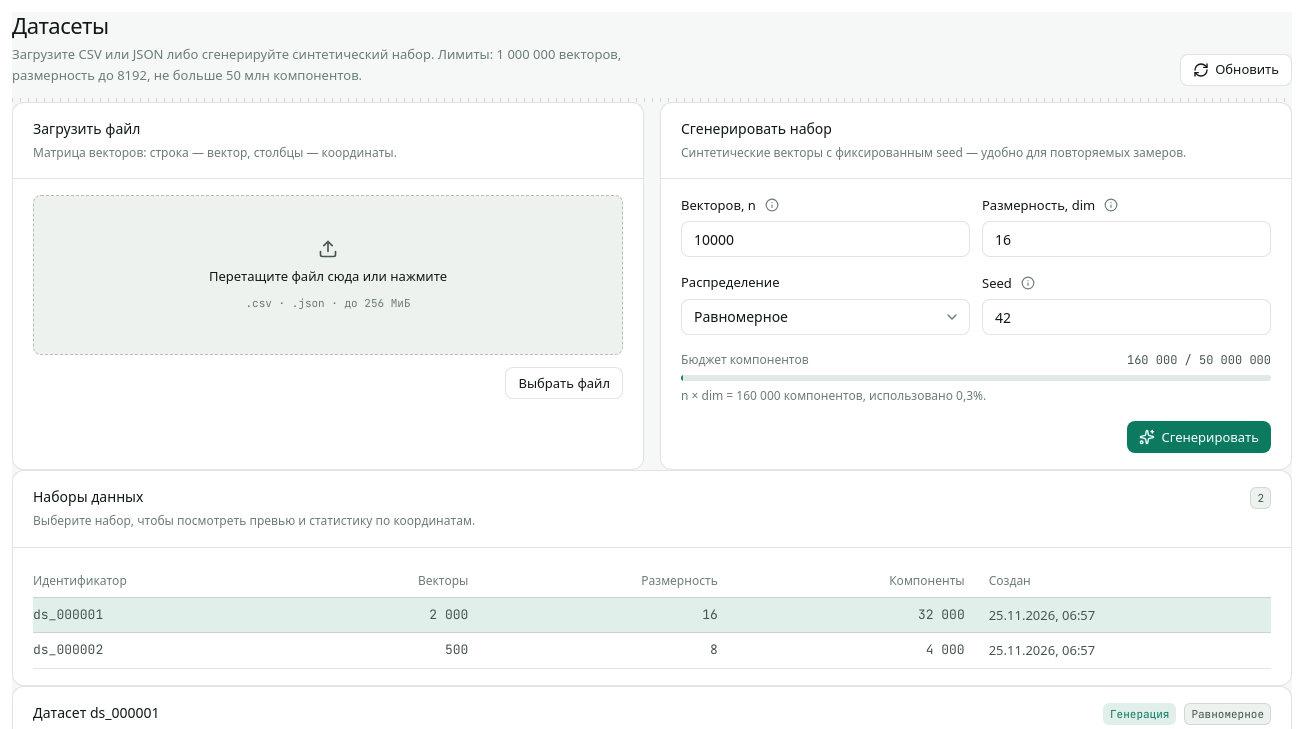
DatasetPage › generates a dataset and selects it
This screenshot has width=1304, height=729.
Expected: the text "ds_000001" is shown, [33,597,296,633]
Replace the text in the number field labelled "Векторов, n" with "120" at {"x": 826, "y": 239}, box [681,221,970,257]
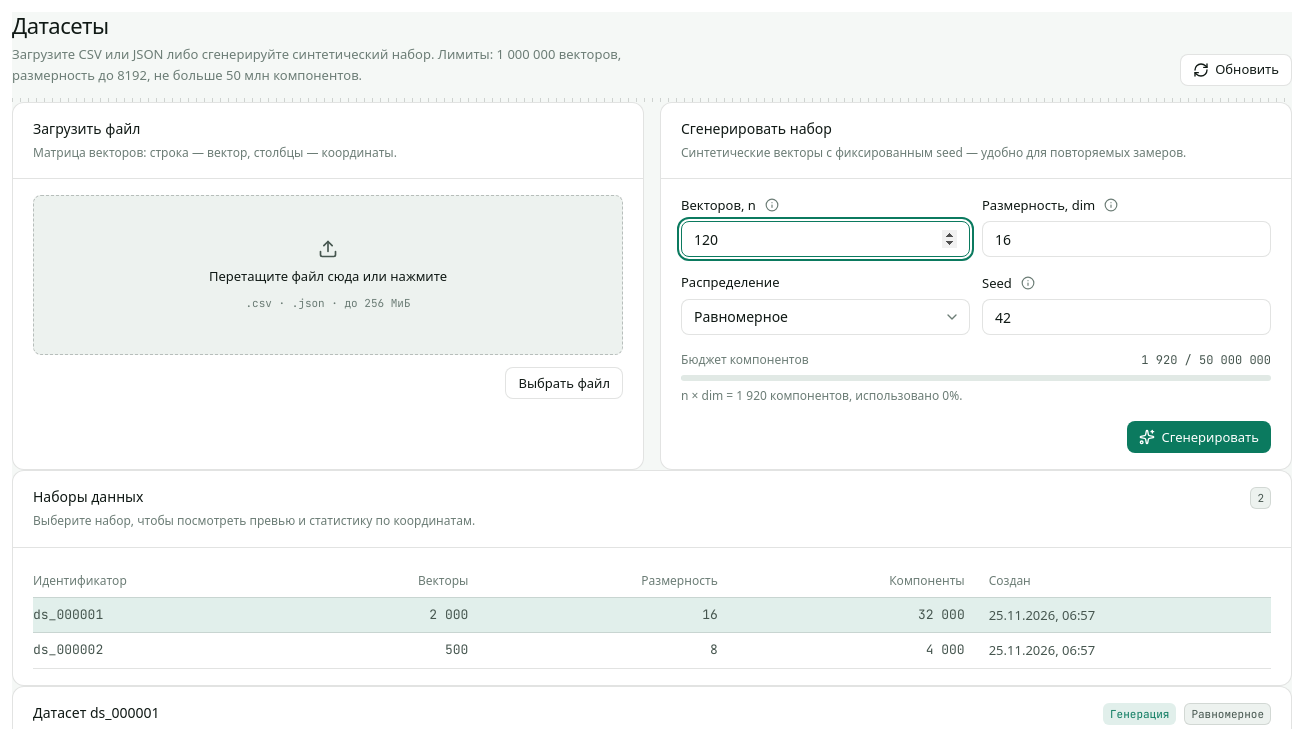
Replace the text in the number field labelled "Размерность, dim" with "8" at {"x": 1126, "y": 239}, box [982,221,1271,257]
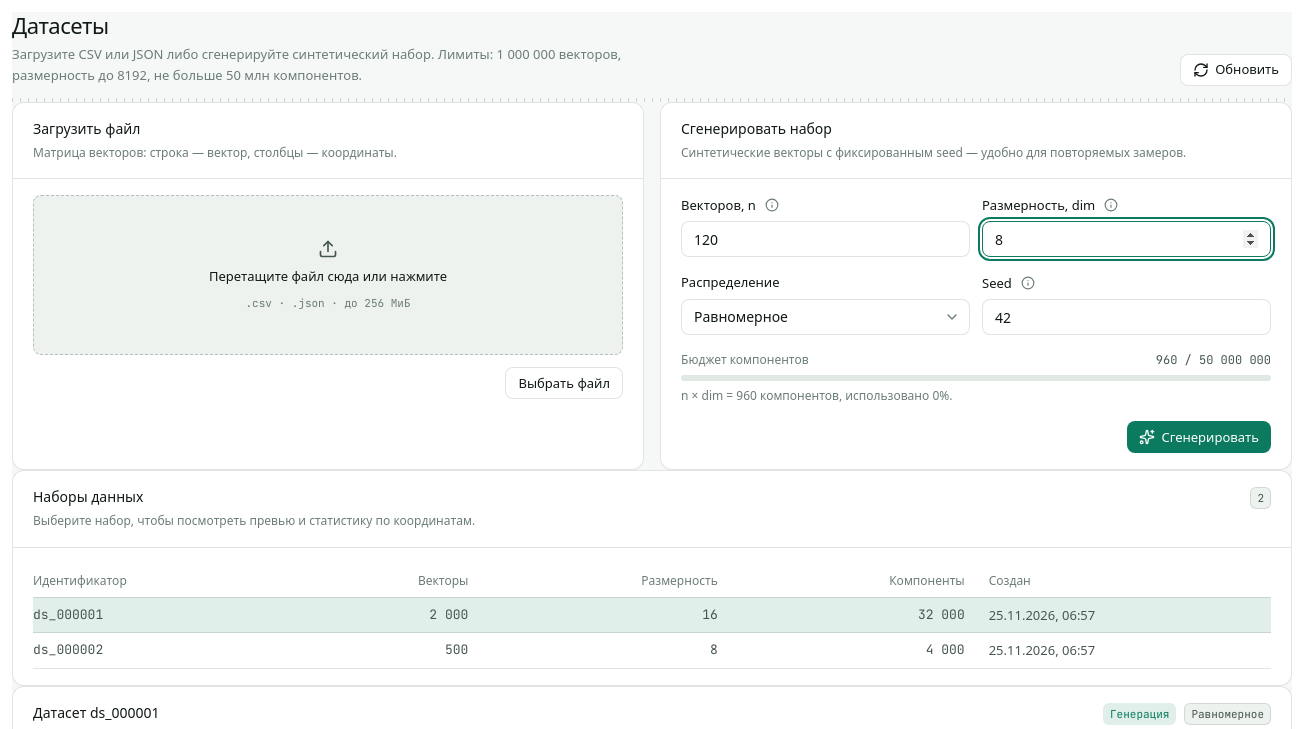
Click the button "Сгенерировать".
click(1199, 437)  # box [1127,421,1271,453]
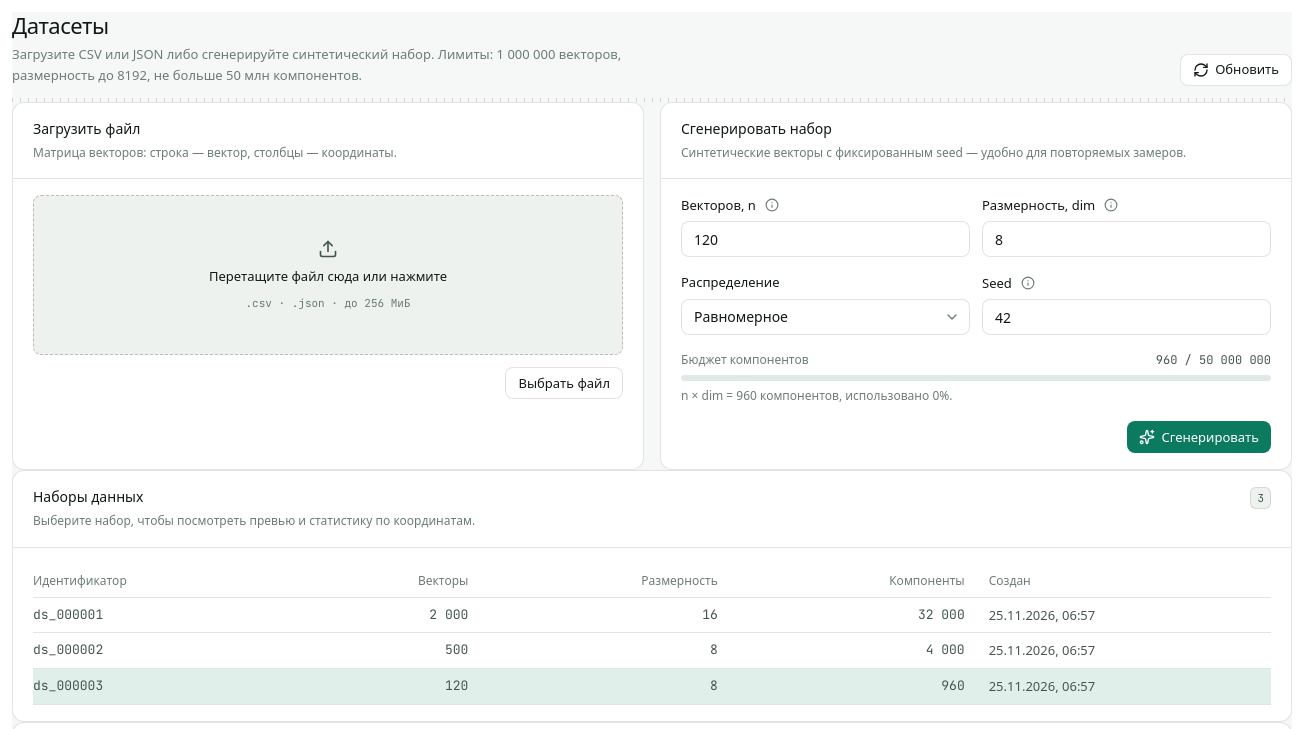
Expected: the text "n × dim = 960 компонентов, использовано 0%." is shown, [681,387,952,404]
Expected: the text "ds_000003" is shown, [33,668,296,704]
